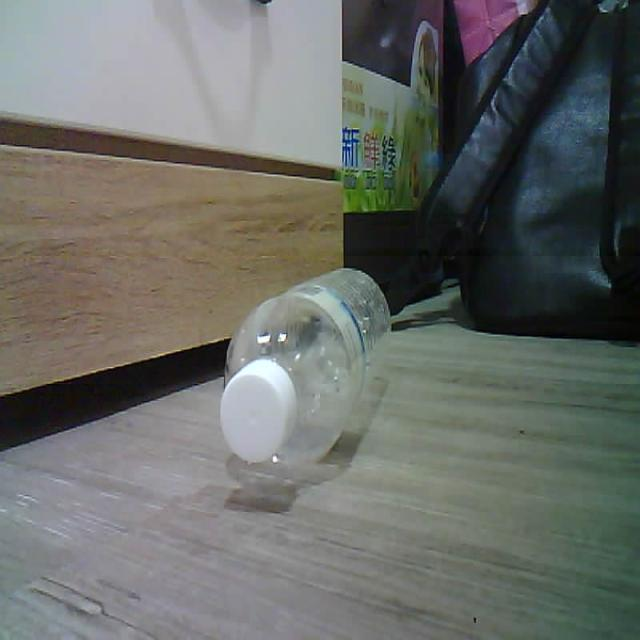bottle: (220, 268, 390, 468)
